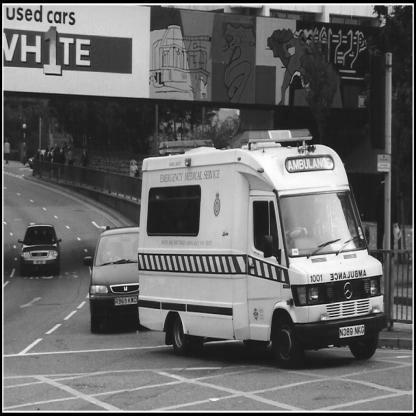ambulance: (127, 138, 410, 371)
car: (87, 227, 140, 323), (15, 206, 68, 281)
